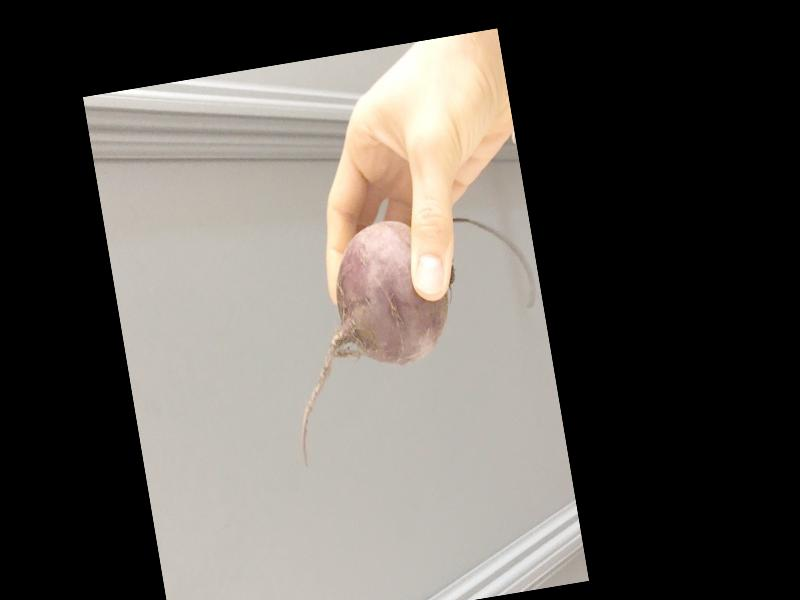Beet: (268, 199, 558, 470)
